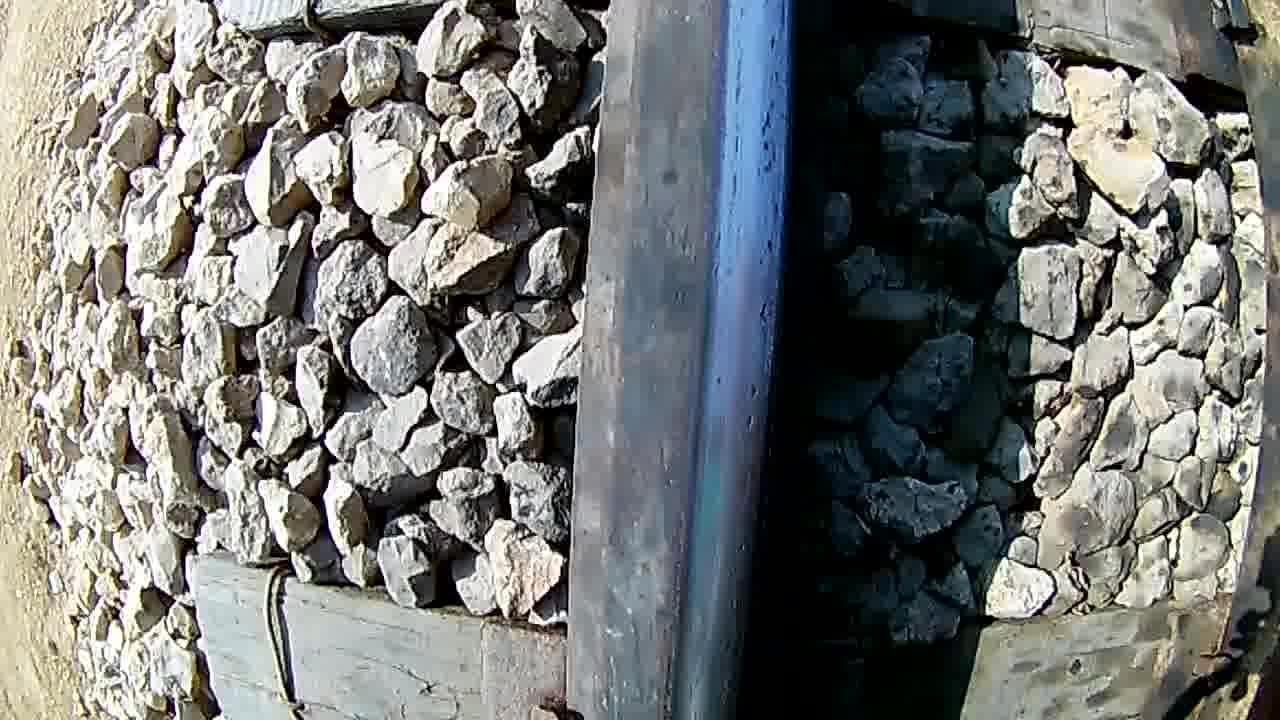crack: (612, 0, 793, 720)
